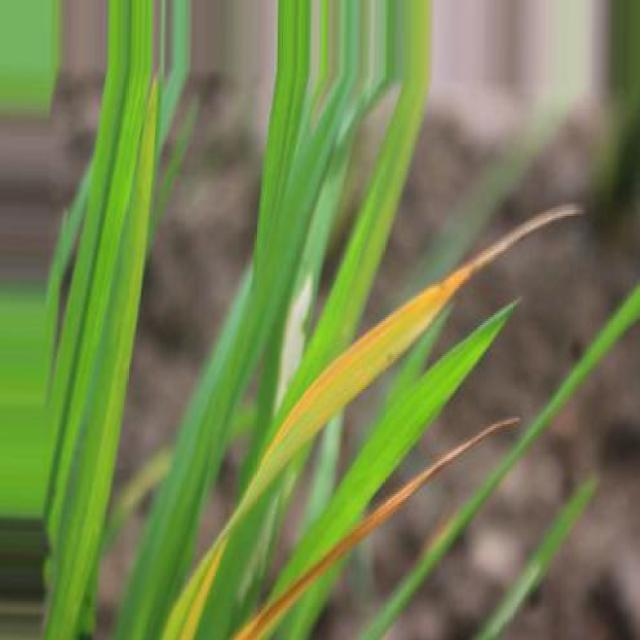Rice Tungro: (164, 207, 580, 639), (234, 418, 519, 638)
